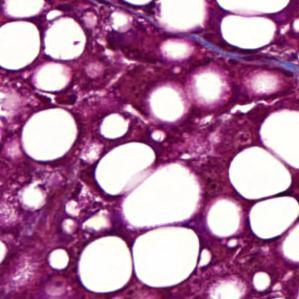steatosis: (19, 106, 77, 162), (78, 237, 133, 295), (0, 21, 42, 73), (208, 199, 240, 239), (49, 249, 70, 271)
